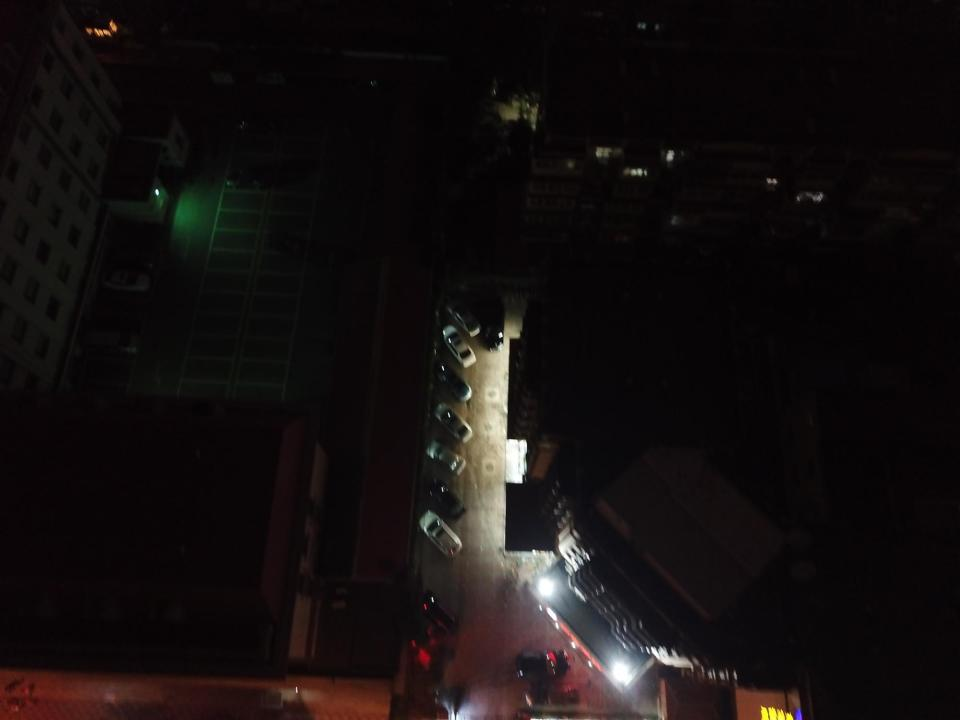car: (411, 509, 465, 559), (419, 475, 463, 522), (432, 402, 474, 444), (440, 324, 477, 370), (433, 362, 473, 404), (92, 264, 150, 292), (423, 441, 466, 478), (446, 298, 480, 338)
